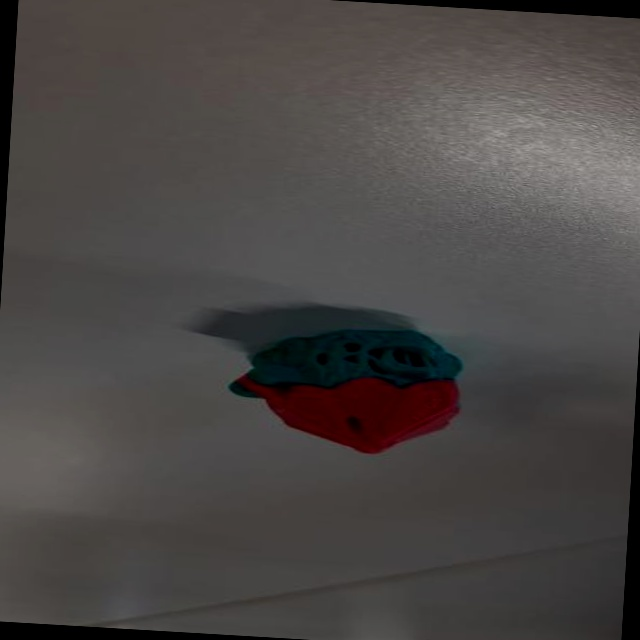House: (223, 315, 472, 462)
